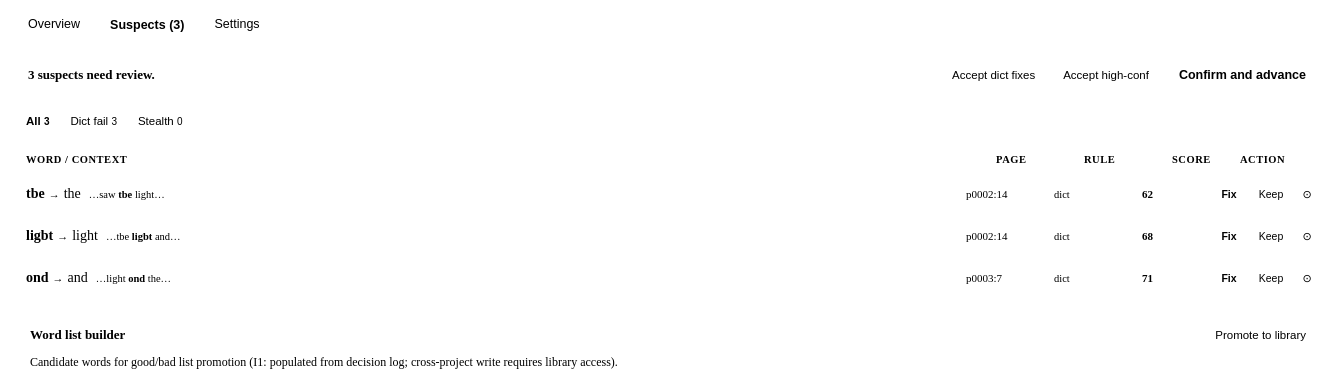
Test: WordcheckTool — tab switching › clicking Settings tab shows wordcheck-settings-tab
Click the button with test id "wordcheck-tab-settings".
click(237, 25)  # box x1=200 y1=8 x2=274 y2=42
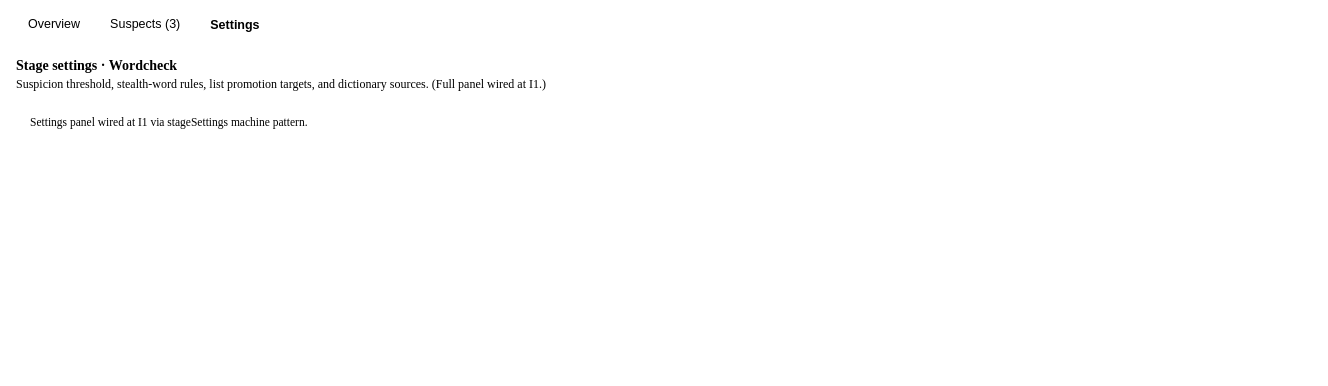
Now the element with test id "wordcheck-settings-tab" is shown, box x1=16 y1=58 x2=546 y2=128
